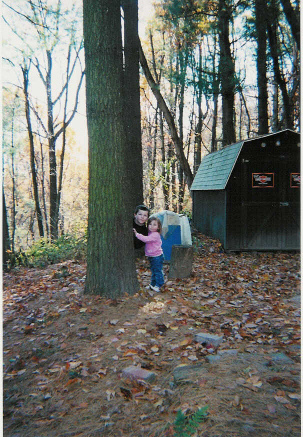without_mask: (133, 204, 150, 225), (147, 218, 162, 235)
